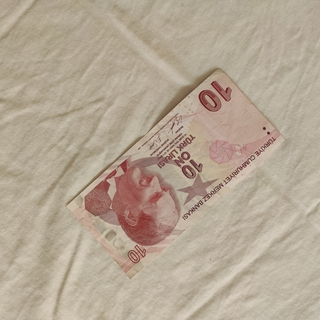10TLFront: (63, 66, 287, 280)
